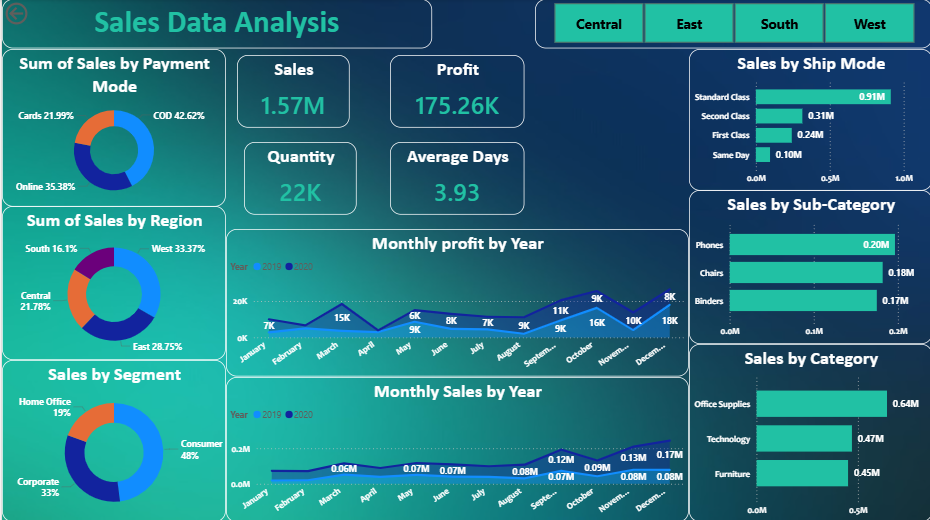

Layout of this report page (visuals, bound fields, positions):
{"tool":"powerbi","page":{"name":"Page 1","canvas":[1280,720],"ordinal":0},"visuals":[{"type":"clusteredBarChart","title":"Sales by Category","fields":{"Category":["SuperStore_Sales_Dataset.Category"],"Y":["Sum(SuperStore_Sales_Dataset.Sales)"]},"box":[945,475,335,245],"z":0},{"type":"clusteredBarChart","title":"Sales by Sub-Category","fields":{"Category":["SuperStore_Sales_Dataset.Sub-Category"],"Y":["Sum(SuperStore_Sales_Dataset.Sales)"]},"box":[945,263.3,335,211.7],"z":1000},{"type":"clusteredBarChart","title":"Sales by Ship Mode","fields":{"Y":["Sum(SuperStore_Sales_Dataset.Sales)"],"Category":["SuperStore_Sales_Dataset.Ship Mode"]},"box":[945,68.3,335,195],"z":2000},{"type":"stackedAreaChart","title":"Monthly Sales by Year","fields":{"Category":["SuperStore_Sales_Dataset.Order Date.Variation.Date Hierarchy.Month","SuperStore_Sales_Dataset.Order Date.Variation.Date Hierarchy.Day"],"Y":["Sum(SuperStore_Sales_Dataset.Sales)"],"Series":["SuperStore_Sales_Dataset.Order Date.Variation.Date Hierarchy.Year"]},"box":[308.3,520,636.7,200],"z":3000},{"type":"stackedAreaChart","title":"Monthly profit by Year","fields":{"Category":["SuperStore_Sales_Dataset.Order Date.Variation.Date Hierarchy.Month","SuperStore_Sales_Dataset.Order Date.Variation.Date Hierarchy.Day"],"Series":["SuperStore_Sales_Dataset.Order Date.Variation.Date Hierarchy.Year"],"Y":["Sum(SuperStore_Sales_Dataset.Profit)"]},"box":[308.3,316.7,636.7,203.3],"z":4000},{"type":"donutChart","title":"Sales by Segment","fields":{"Y":["Sum(SuperStore_Sales_Dataset.Sales)"],"Category":["SuperStore_Sales_Dataset.Segment"]},"box":[0,496.7,308.3,223.3],"z":5000},{"type":"donutChart","fields":{"Y":["Sum(SuperStore_Sales_Dataset.Sales)"],"Category":["SuperStore_Sales_Dataset.Payment Mode"]},"box":[0,68.3,308.3,216.7],"z":6000},{"type":"donutChart","fields":{"Y":["Sum(SuperStore_Sales_Dataset.Sales)"],"Category":["SuperStore_Sales_Dataset.Region"]},"box":[0,285,308.3,211.7],"z":7000},{"type":"slicer","fields":{"Values":["SuperStore_Sales_Dataset.Region"]},"box":[733.3,0,546.7,68.3],"z":8000},{"type":"textbox","box":[0,0,591.7,68.3],"z":9000},{"type":"cardVisual","title":"Sales","fields":{"Data":["Sum(SuperStore_Sales_Dataset.Sales)"]},"box":[323.3,76.7,155,100],"z":9001},{"type":"actionButton","box":[0,0,100,40],"z":9002},{"type":"cardVisual","title":"Average Days","fields":{"Data":["Avg(SuperStore_Sales_Dataset.AvgDays)"]},"box":[533.3,196.7,185,100],"z":9003},{"type":"cardVisual","title":"Quantity","fields":{"Data":["Sum(SuperStore_Sales_Dataset.Quantity)"]},"box":[333.3,196.7,155,100],"z":9004},{"type":"cardVisual","title":"Profit","fields":{"Data":["Sum(SuperStore_Sales_Dataset.Profit)"]},"box":[533.3,76.7,185,100],"z":9005}]}

Visuals, with their boxes in screenshot pixels (x1, y1, x2, y2), scaled from the page's 1280x720 canvas onto the 930x520 screenshot:
"Sales by Category" clusteredBarChart: (left=687, top=343, right=929, bottom=519)
"Sales by Sub-Category" clusteredBarChart: (left=687, top=190, right=929, bottom=343)
"Sales by Ship Mode" clusteredBarChart: (left=687, top=49, right=929, bottom=190)
"Monthly Sales by Year" stackedAreaChart: (left=224, top=376, right=687, bottom=519)
"Monthly profit by Year" stackedAreaChart: (left=224, top=229, right=687, bottom=376)
"Sales by Segment" donutChart: (left=0, top=359, right=224, bottom=519)
donutChart - Sum(SuperStore_Sales_Dataset.Sales) x SuperStore_Sales_Dataset.Payment Mode: (left=0, top=49, right=224, bottom=206)
donutChart - Sum(SuperStore_Sales_Dataset.Sales) x SuperStore_Sales_Dataset.Region: (left=0, top=206, right=224, bottom=359)
slicer - SuperStore_Sales_Dataset.Region: (left=533, top=0, right=929, bottom=49)
textbox: (left=0, top=0, right=430, bottom=49)
"Sales" cardVisual: (left=235, top=55, right=348, bottom=128)
actionButton: (left=0, top=0, right=73, bottom=29)
"Average Days" cardVisual: (left=387, top=142, right=522, bottom=214)
"Quantity" cardVisual: (left=242, top=142, right=355, bottom=214)
"Profit" cardVisual: (left=387, top=55, right=522, bottom=128)
